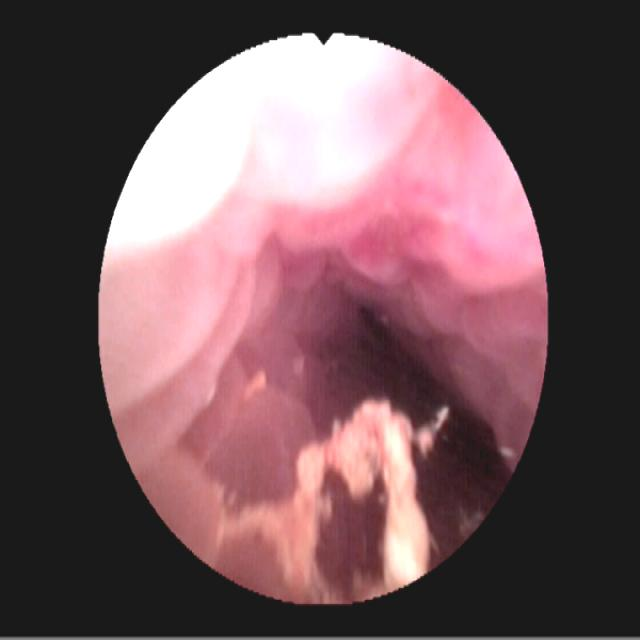stone: (214, 398, 451, 588)
tissue: (106, 47, 535, 545)
